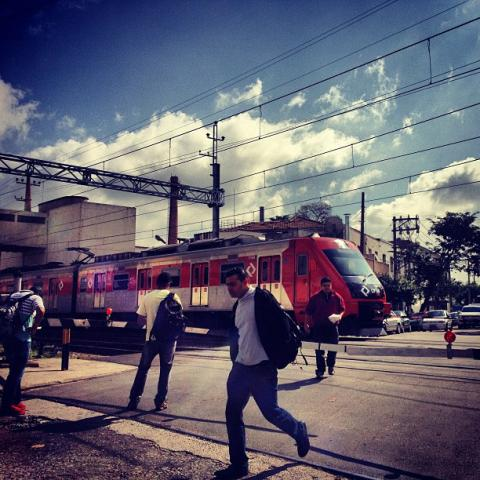car: (422, 310, 453, 333), (457, 305, 479, 329), (381, 310, 403, 332), (393, 311, 412, 332), (409, 312, 427, 331)
truck: (457, 304, 479, 330)
